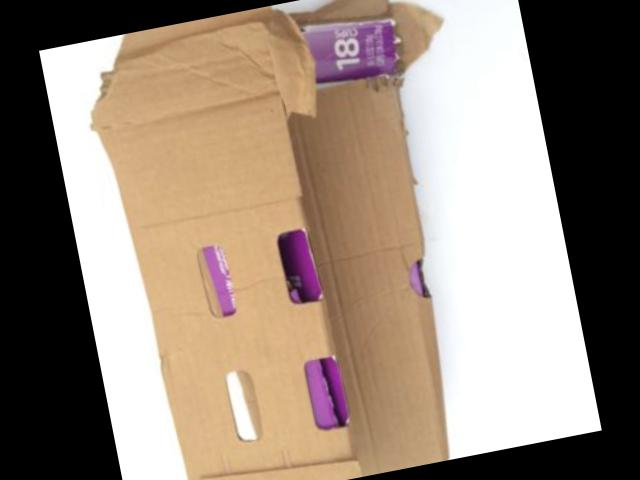cardboard paper: (90, 0, 444, 480)
